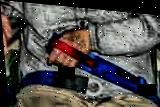seatbelt: (25, 29, 159, 102)
